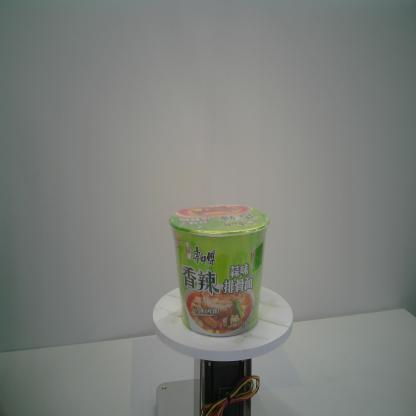Instant Noodles: (167, 203, 271, 338)
